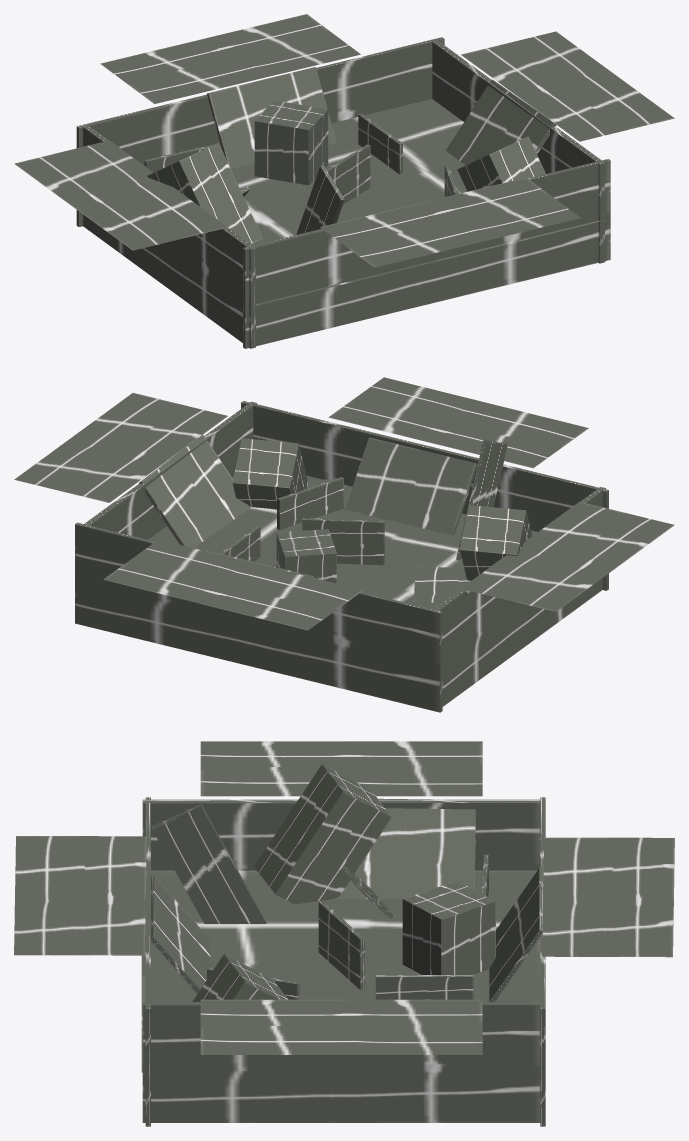
The model's file is map.gltf.
The picture shows the model from 3 angles, top to bottom: view 1: azimuth 30°, elevation 25°; view 2: azimuth 150°, elevation 25°; view 3: azimuth 270°, elevation 25°; orthographic projection. The views are drawn at different scales.
Visible parts, largest first — view 1: Куб (×13), Плоскость (×5); view 2: Куб (×14), Плоскость (×5); view 3: Куб (×13), Плоскость (×5).
Boxes of the visible parts, box(x1,y1,x2,y2) form: Куб (×13): box(76, 37, 610, 348); Плоскость (×5): box(14, 14, 674, 306); Куб (×14): box(75, 401, 608, 712); Плоскость (×5): box(14, 377, 674, 630); Куб (×13): box(142, 764, 545, 1126); Плоскость (×5): box(14, 741, 674, 1072).
Bounding box in the file's own units: 154 × 50.05 × 137.
Materials: 22 (22 with a texture image).
